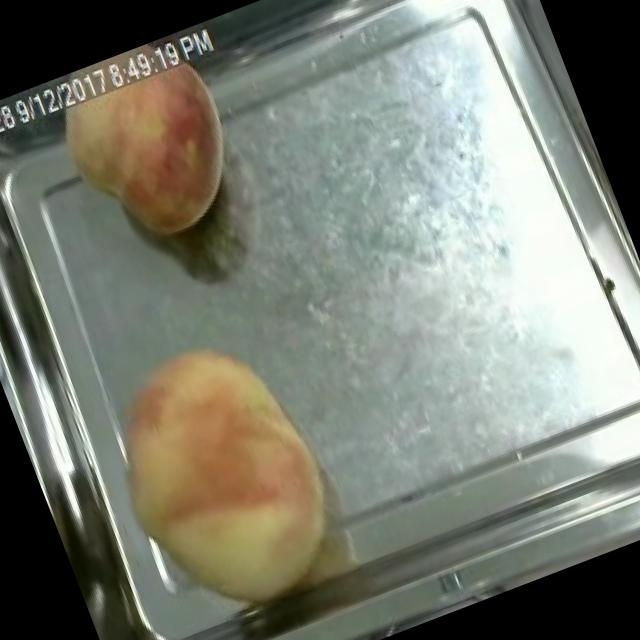Fruit: (62, 305, 373, 640), (44, 50, 268, 268)
